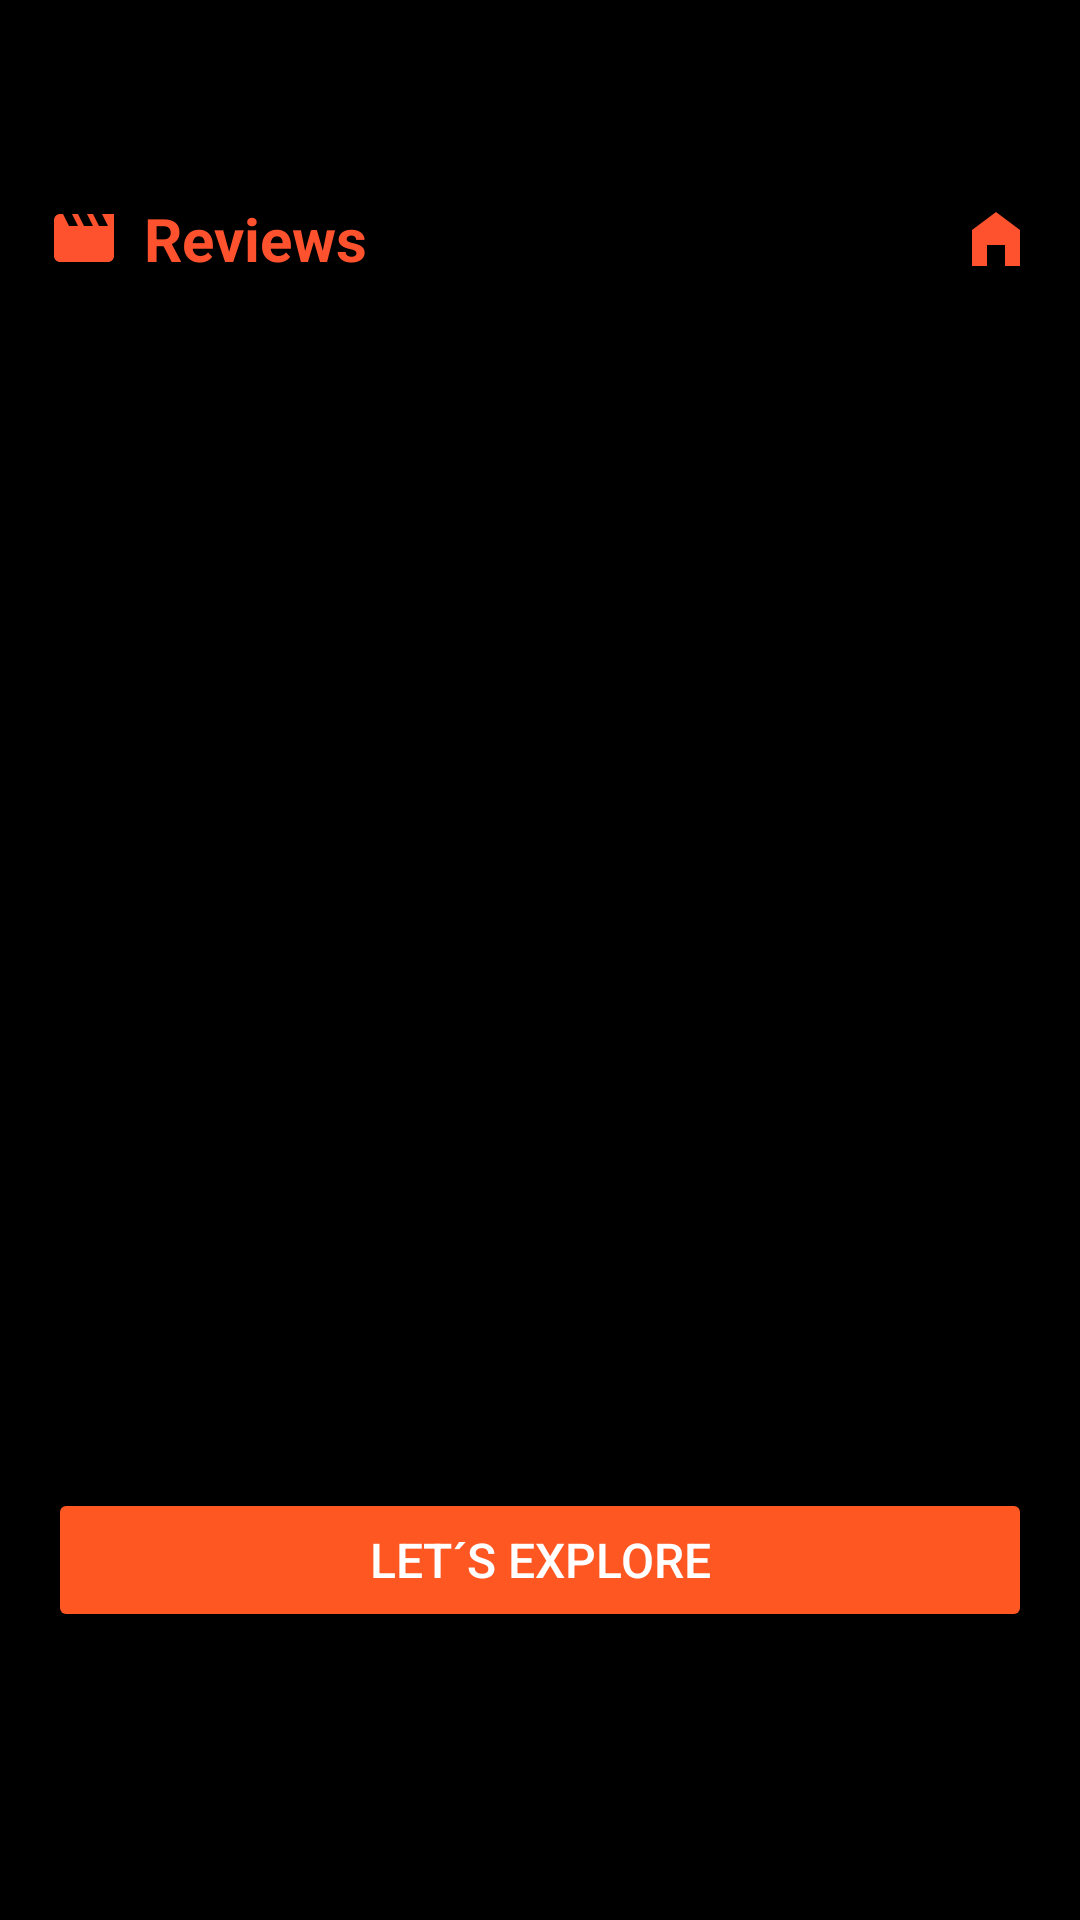

Icon bounding boxes for this 1080px x 1920px phone screenshot, format (x1, y1, x2, y2):
home: (972, 212, 1020, 266)
